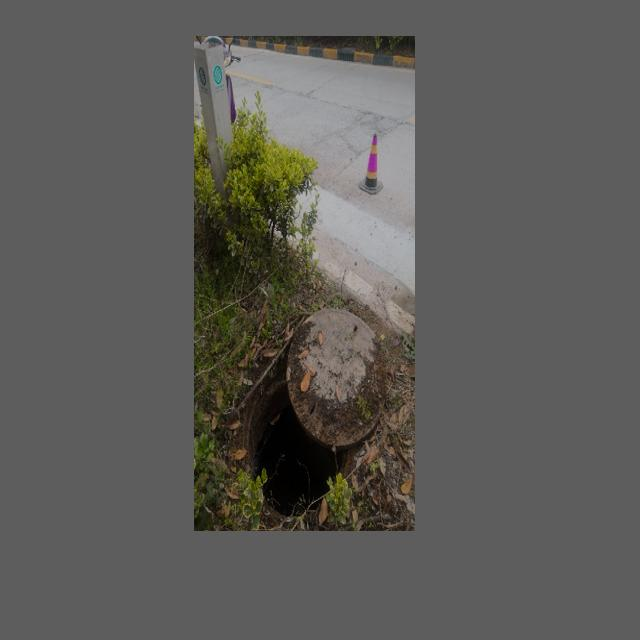uncovered: (234, 304, 385, 511)
